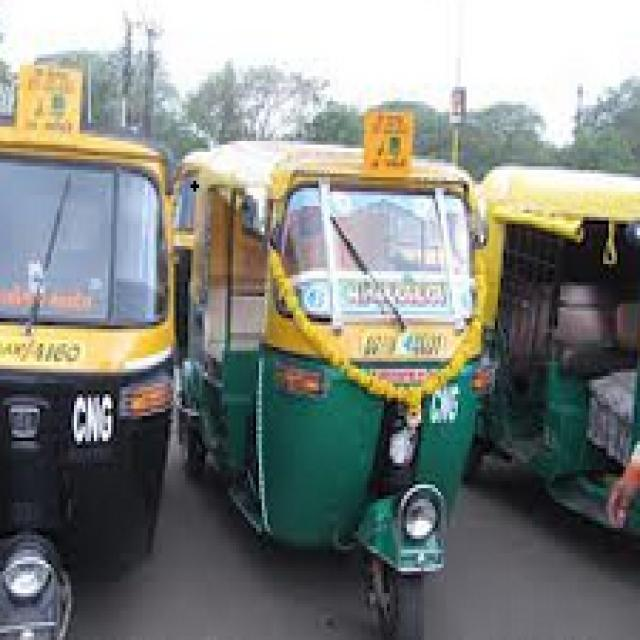auto_front: (185, 100, 496, 628), (5, 49, 188, 640)
